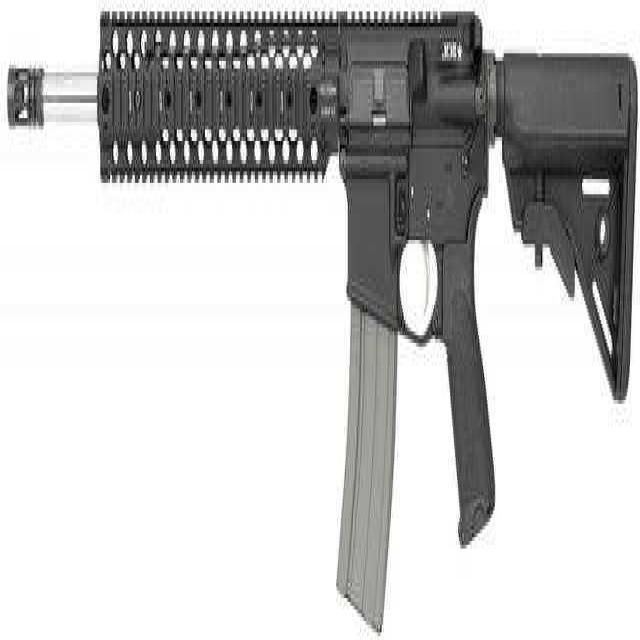heavyweapon: (2, 1, 640, 640)
